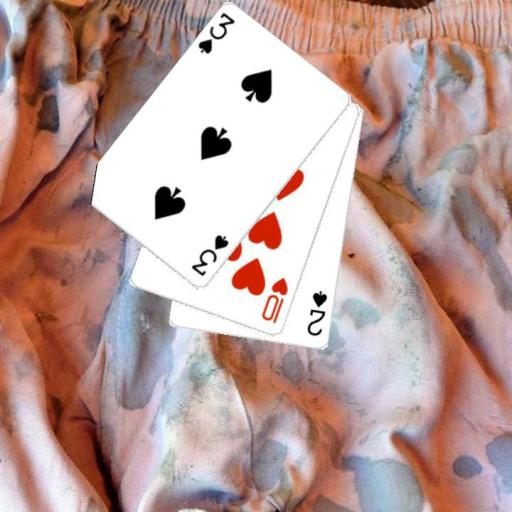10H: (258, 275, 290, 326)
2S: (304, 287, 329, 338)
3S: (195, 9, 237, 56), (188, 232, 230, 278)
